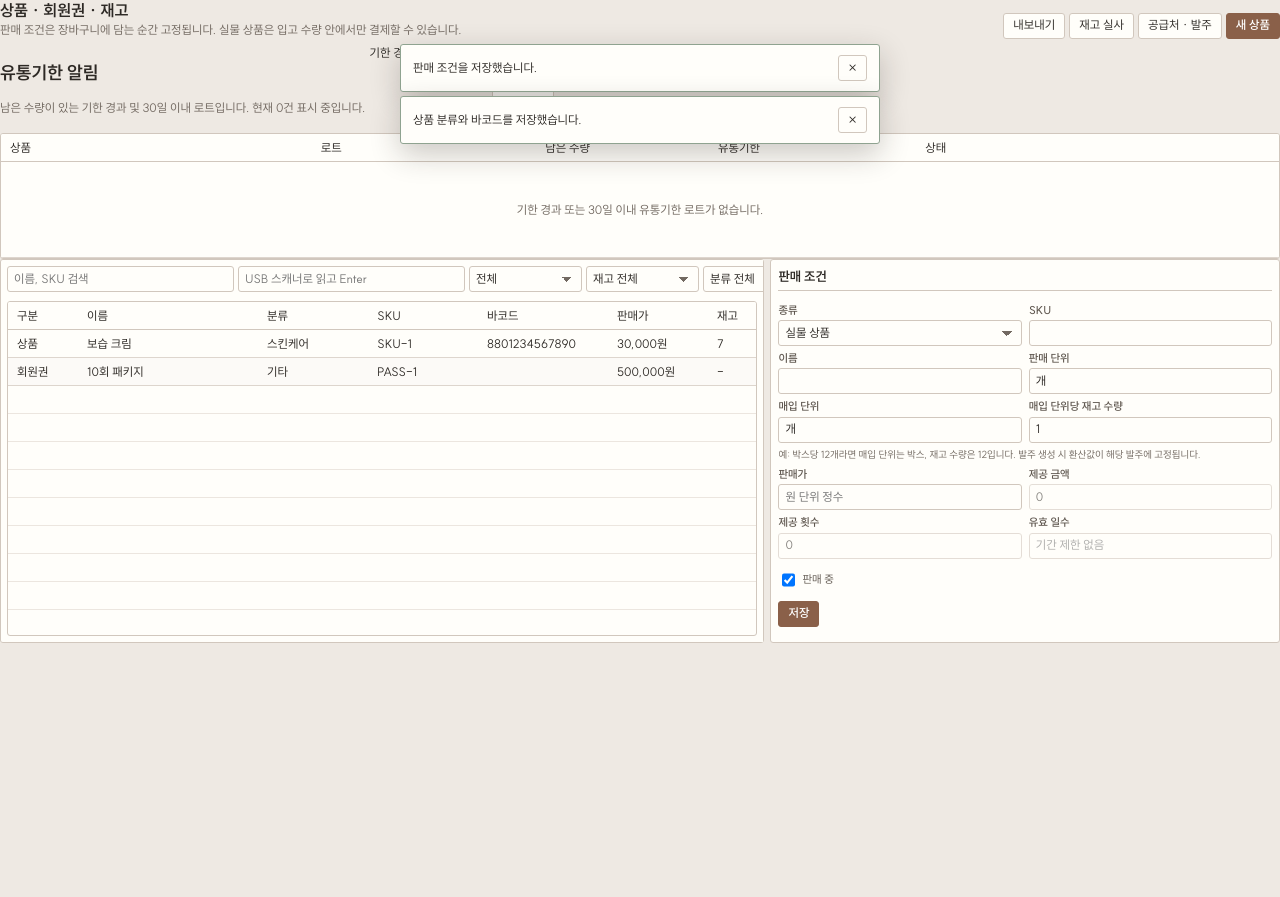
Scenario: InventoryPage › 바코드 스캐너 입력을 Enter로 조회해 정확히 일치하는 상품 상세를 연다
expect the text "보습 크림" is shown: met, box 78,330 -> 258,358
In the field named "바코드 스캔": (352, 280) 238,266 -> 465,292, type "8801234567890"
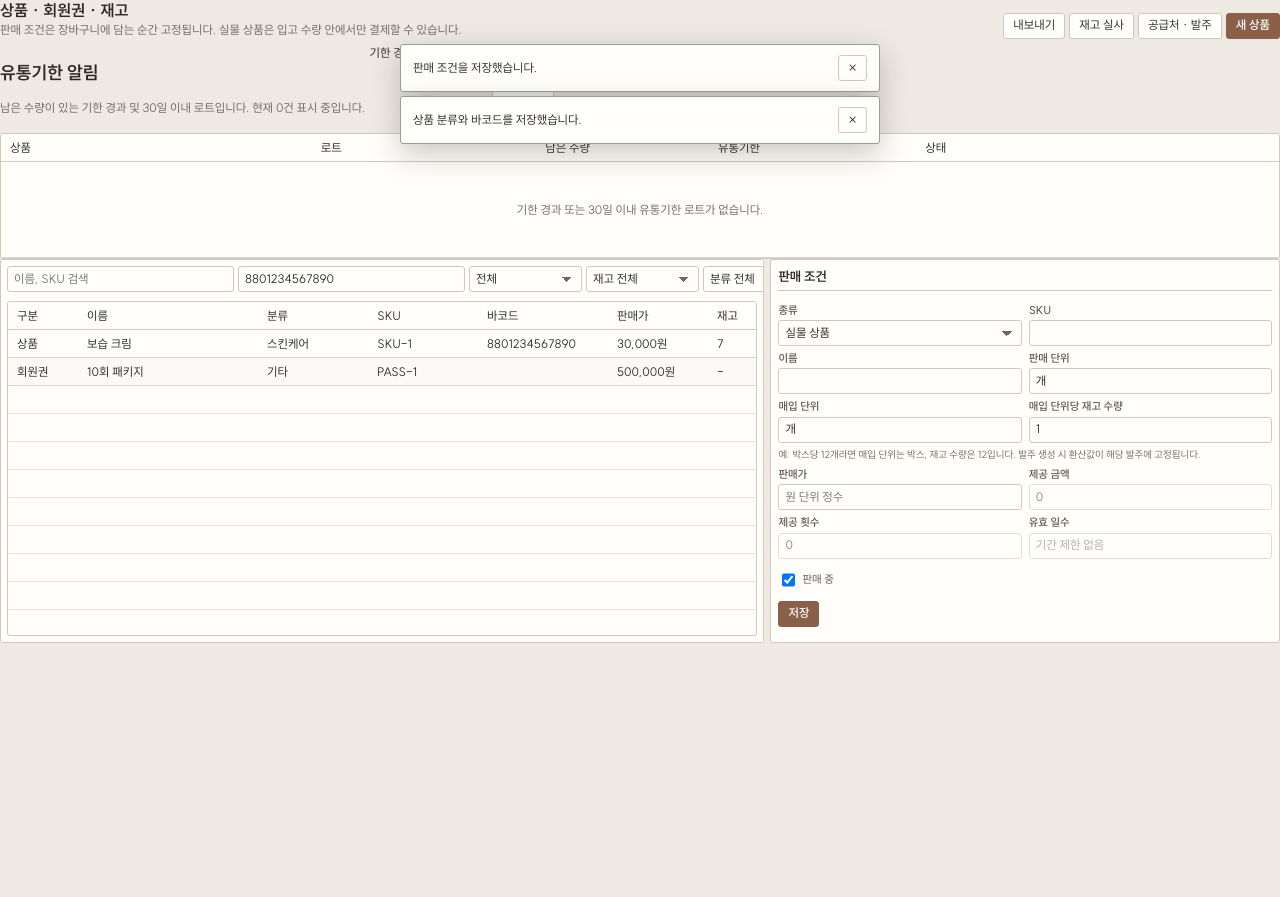
Press Enter in the field named "바코드 스캔", box 238,266 -> 465,292
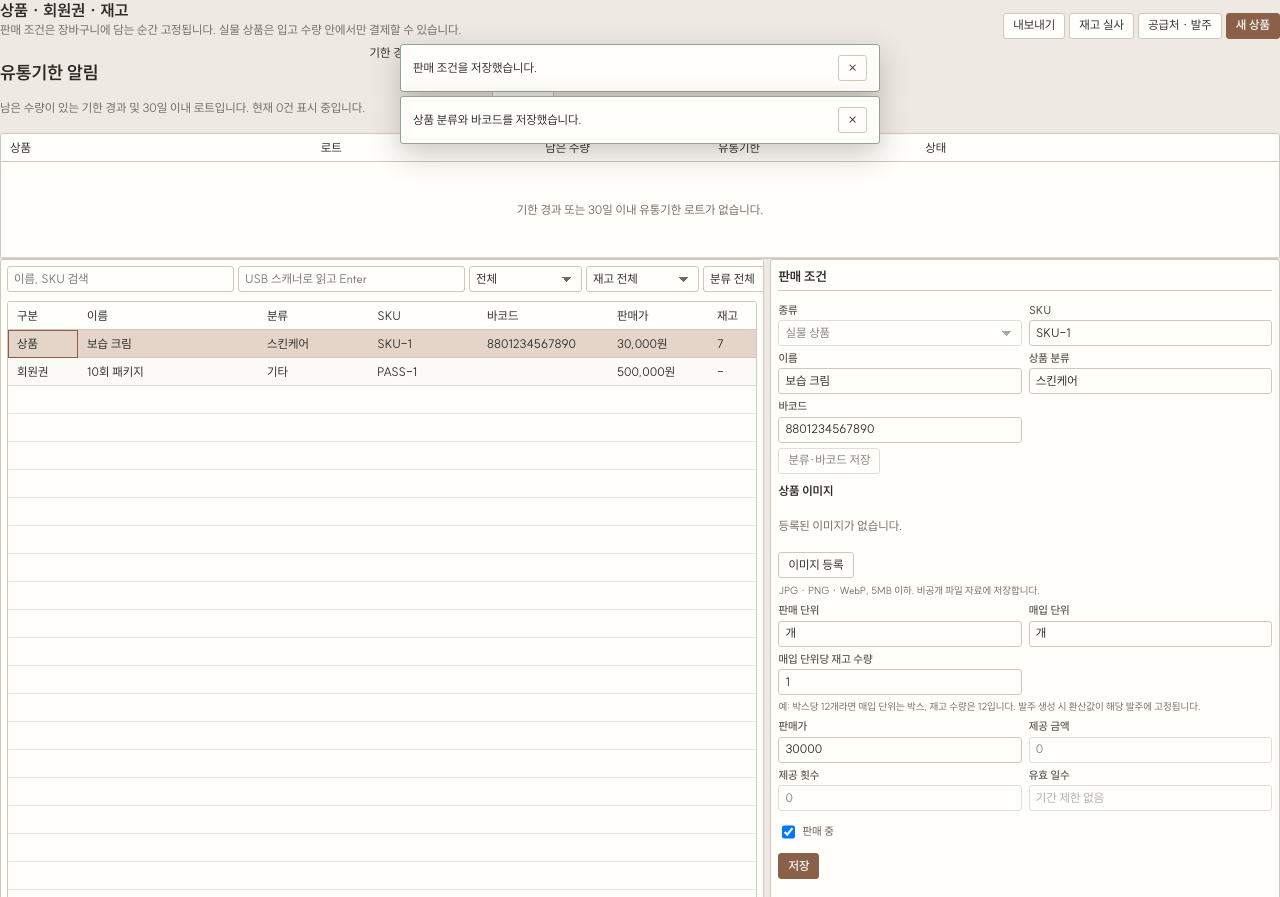
expect the field labelled "상품 분류" holds "스킨케어": met, box 1029,368 -> 1272,394
expect the field labelled "바코드" holds "8801234567890": met, box 778,417 -> 1022,443
expect the field named "바코드 스캔" is empty: met, box 238,266 -> 465,292
